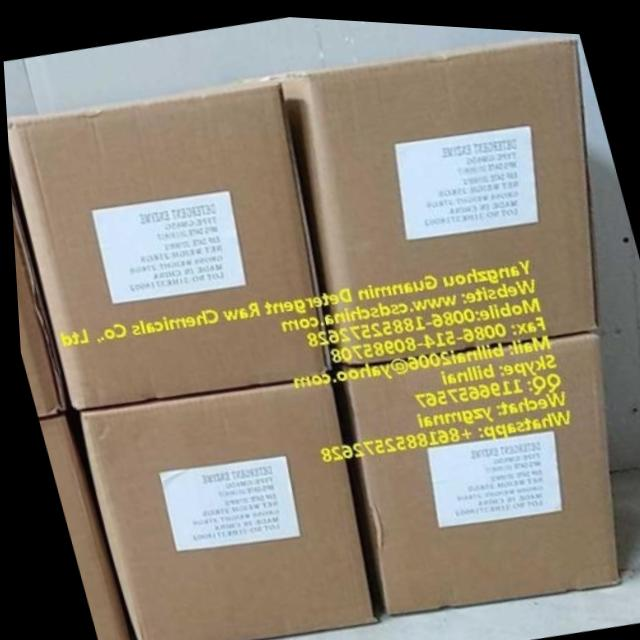box: (233, 28, 593, 366), (5, 77, 331, 410), (75, 372, 368, 640), (339, 322, 610, 610), (34, 413, 125, 640), (10, 208, 61, 416)
